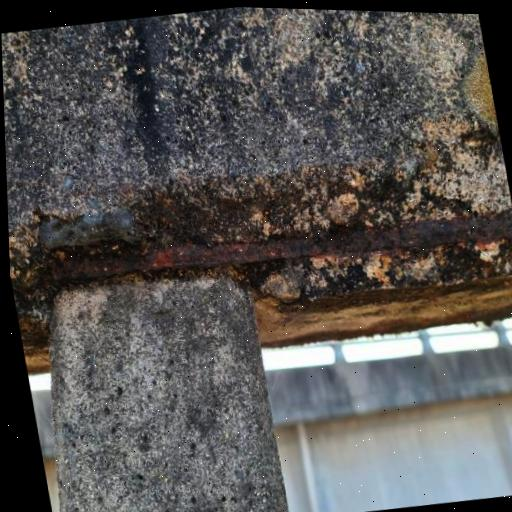exposed_rebar: (50, 211, 512, 281)
